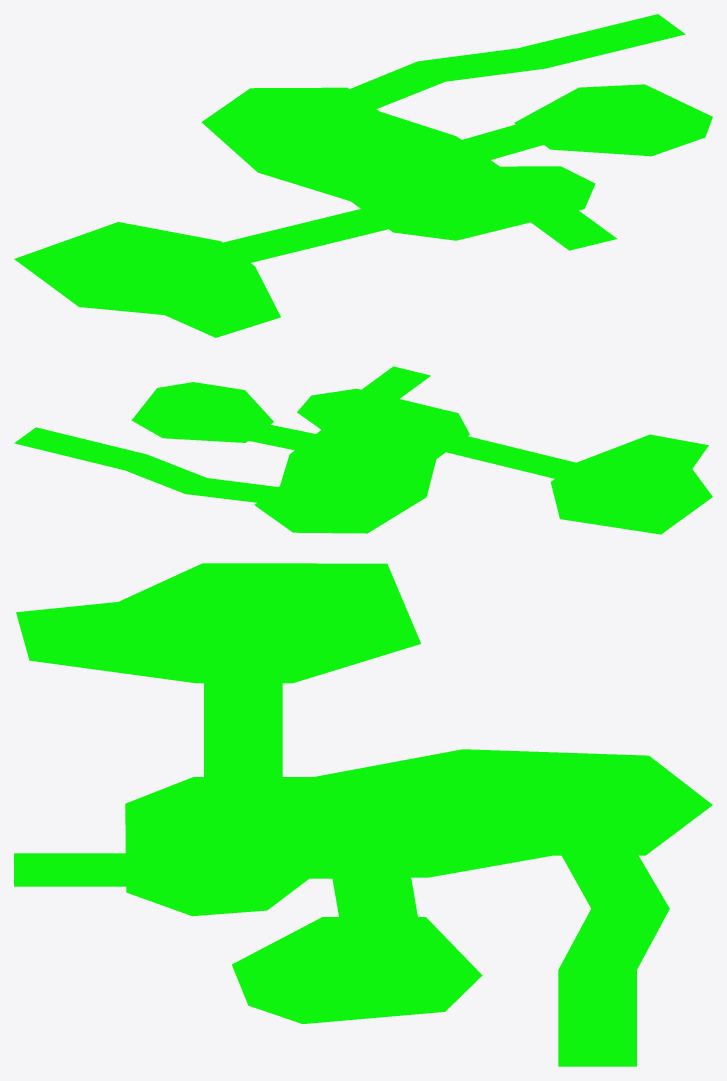
The model's file is s05b_tc3-floor.glb.
The picture shows the model from 3 angles, top to bottom: view 1: azimuth 30°, elevation 25°; view 2: azimuth 150°, elevation 25°; view 3: azimuth 270°, elevation 25°; orthographic projection. The views are drawn at different scales.
Parts seen in each view (by area): view 1: collision_floor-colonly; view 2: collision_floor-colonly; view 3: collision_floor-colonly.
Part boxes in pixels (<box>): collision_floor-colonly: <box>14,14,712,337</box>; collision_floor-colonly: <box>14,366,712,534</box>; collision_floor-colonly: <box>14,563,712,1066</box>.
Bounding box in the file's own units: 91.26 × 0.1992 × 53.3.
